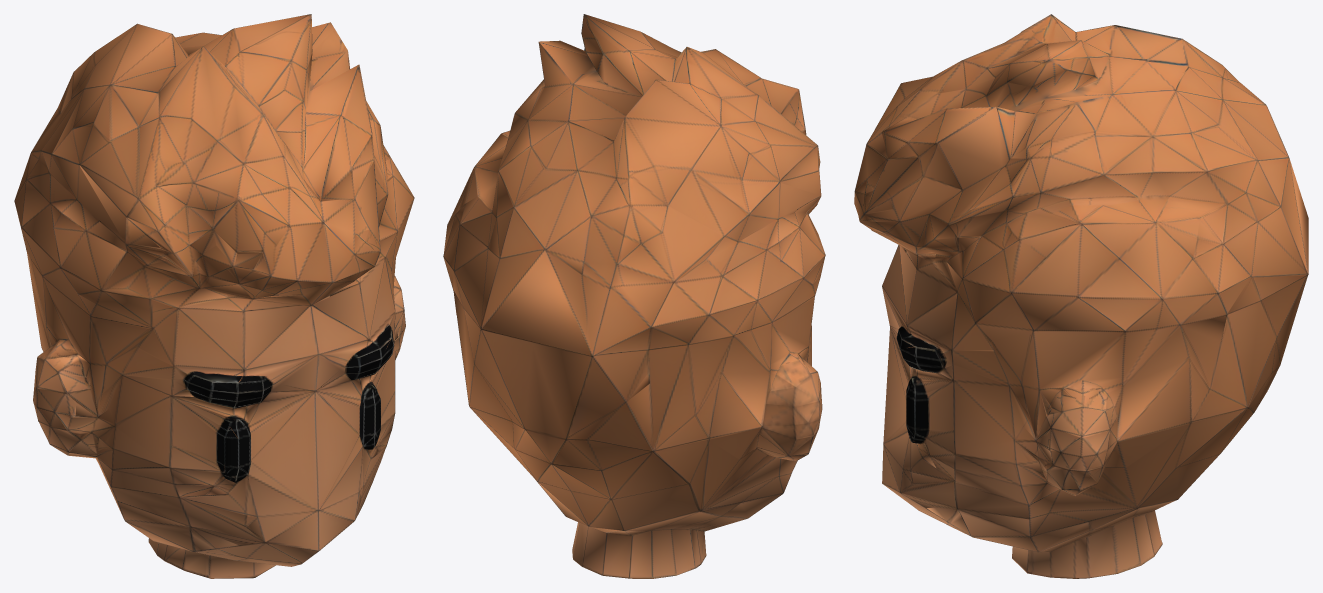
The model's file is hy3-facetas-b.glb.
3 views of the same model, side by side, from view 1: azimuth 30°, elevation 25°; view 2: azimuth 150°, elevation 25°; view 3: azimuth 270°, elevation 25° (orthographic). The views are drawn at different scales.
Parts seen in each view (by area): view 1: material; view 2: material; view 3: material.
Boxes of the visible parts, bbox=[...] form: material: bbox=[14, 14, 414, 578]; material: bbox=[443, 14, 825, 578]; material: bbox=[854, 14, 1308, 578].
Bounding box in the file's own units: 1.37 × 1.9 × 1.46.
Materials: 1 (1 with a texture image).
